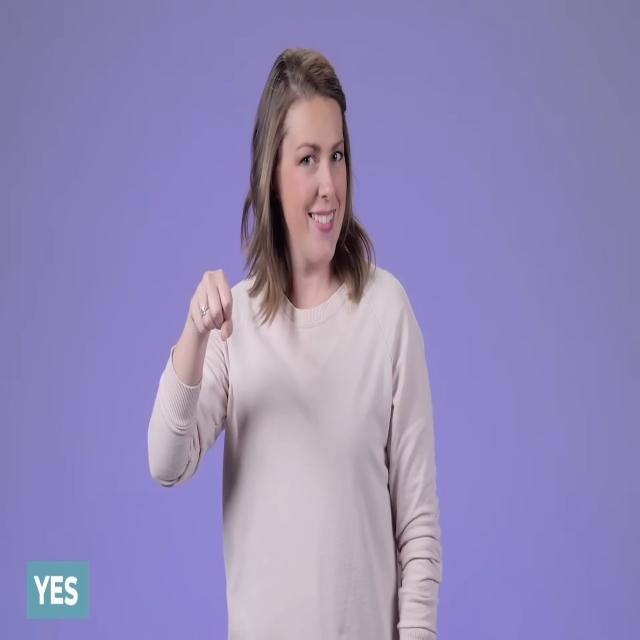yes: (168, 258, 258, 362)
